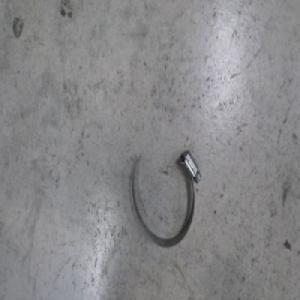AdjustableClamp: (131, 145, 203, 250)
